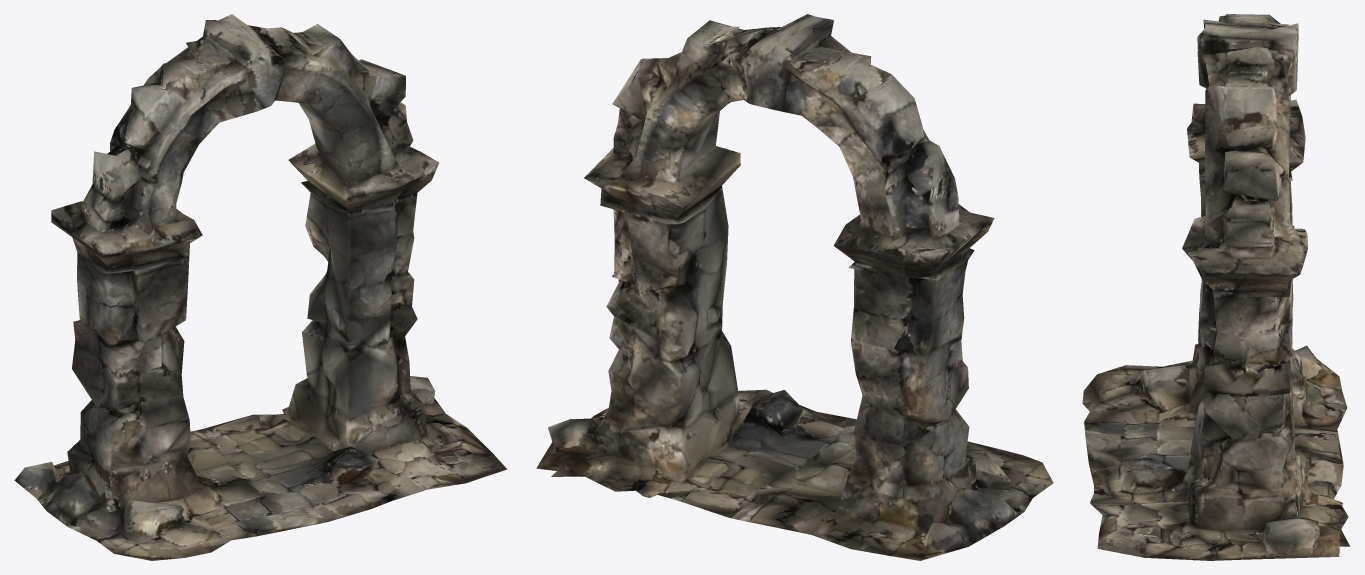
File: arch_ruin_lod2.glb
3 renders of one model, left to right at view 1: azimuth 30°, elevation 25°; view 2: azimuth 150°, elevation 25°; view 3: azimuth 270°, elevation 25°, orthographic. The views are drawn at different scales.
Parts seen in each view (by area): view 1: arch_ruin_lod2; view 2: arch_ruin_lod2; view 3: arch_ruin_lod2.
Part boxes in pixels (left/top/right/bottom): arch_ruin_lod2: left=14, top=14, right=507, bottom=560; arch_ruin_lod2: left=536, top=14, right=1053, bottom=560; arch_ruin_lod2: left=1082, top=14, right=1350, bottom=560.
Size of the model in its own units: 13.87 by 14 by 7.86.
1 material, 1 textured.
